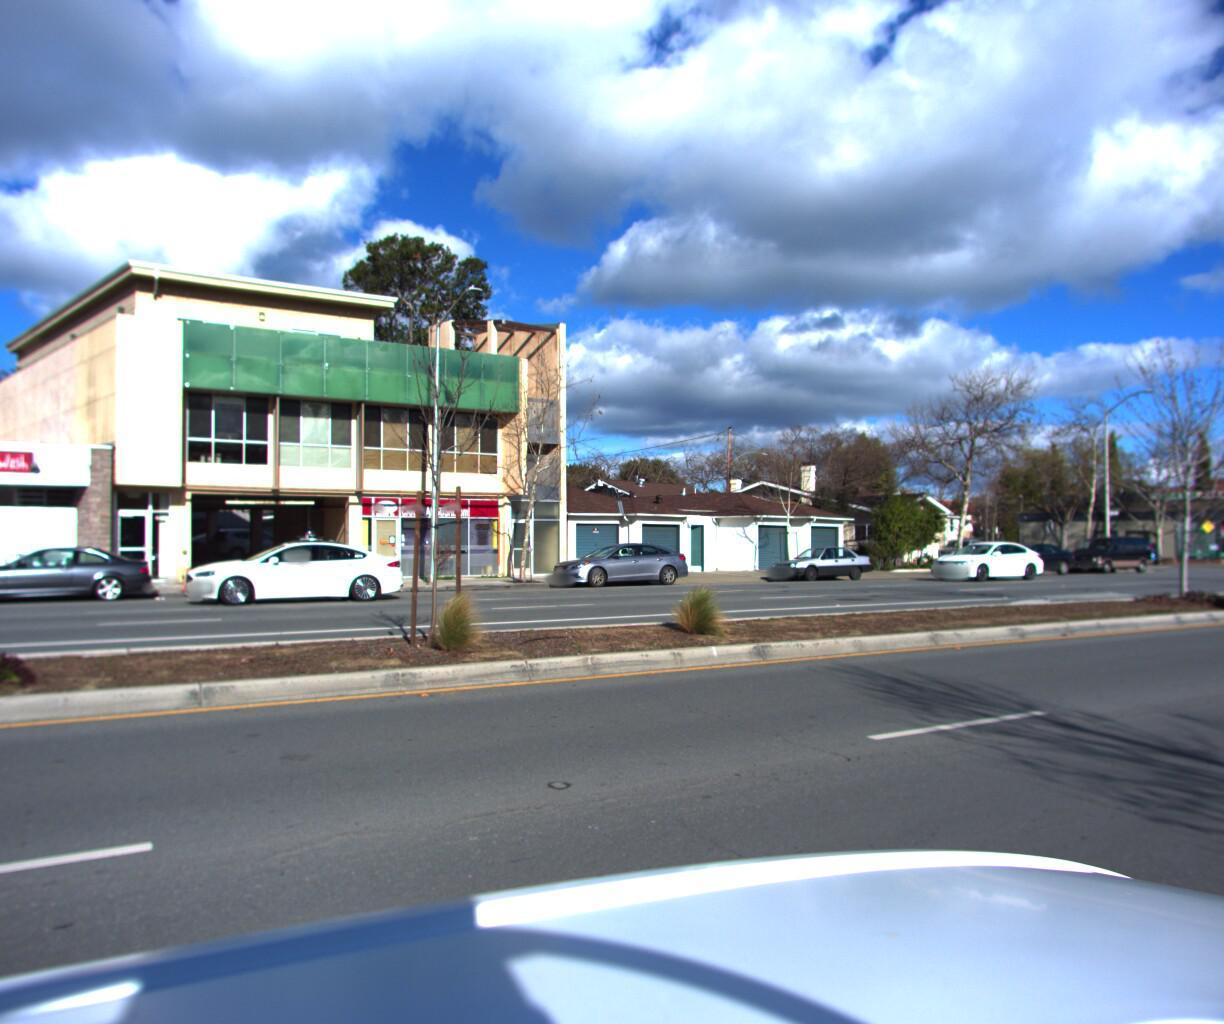car: (172, 531, 405, 611), (0, 548, 156, 614), (543, 541, 694, 590), (919, 540, 1050, 582), (760, 544, 874, 584), (968, 539, 1077, 575), (1056, 533, 1151, 573)
